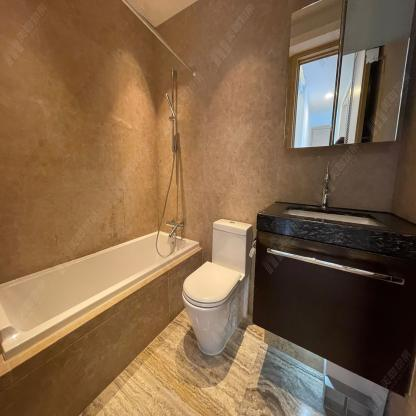Faucet: (323, 158, 332, 208)
Toilet: (181, 218, 253, 355)
Toilet Sink: (0, 230, 203, 416)
